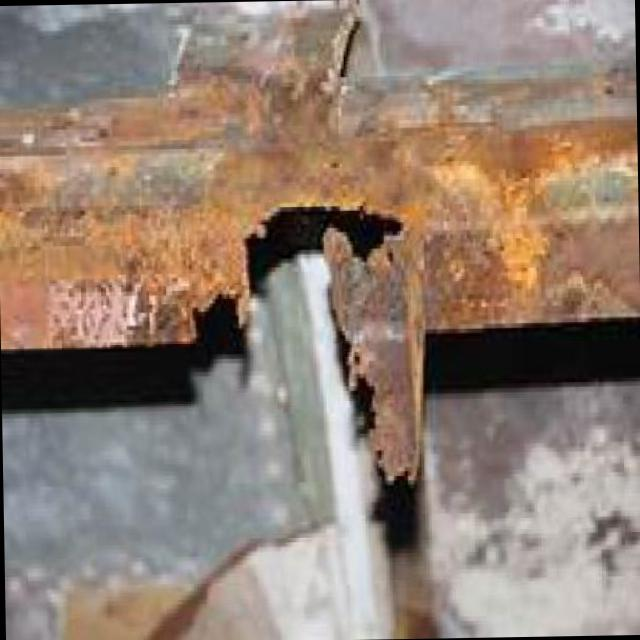defective: (3, 19, 640, 620)
